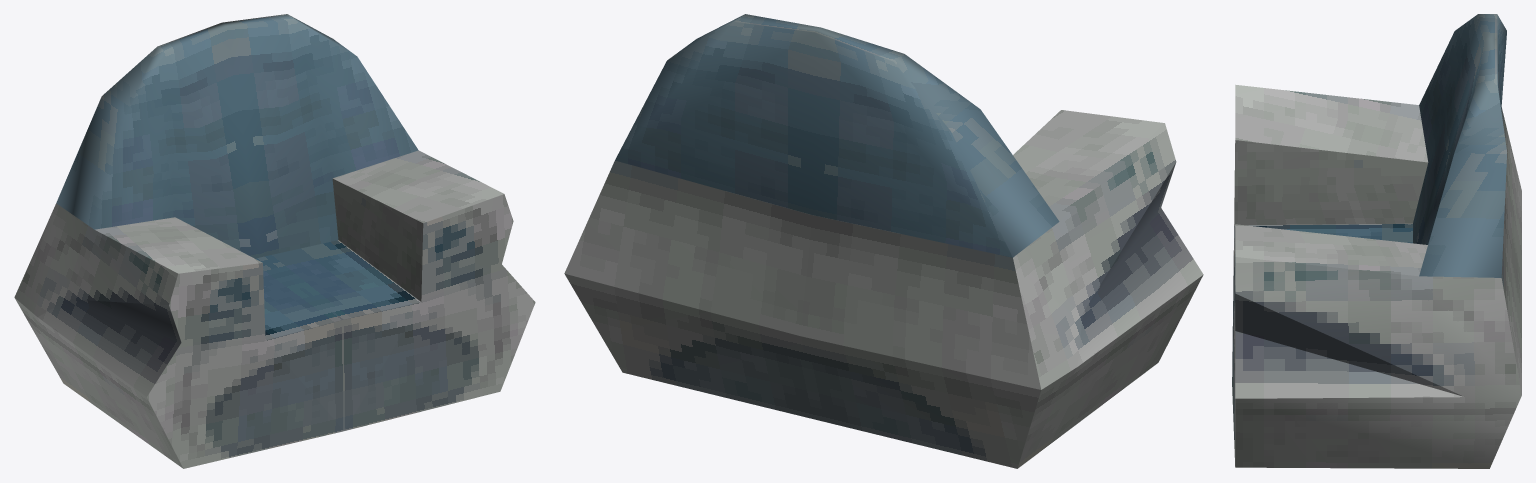
The model's file is frn_jedi_chair_light_s1_l2.fbx.
3 views of the same model, side by side, from view 1: azimuth 30°, elevation 25°; view 2: azimuth 150°, elevation 25°; view 3: azimuth 270°, elevation 25° (orthographic). The views are drawn at different scales.
Parts seen in each view (by area): view 1: mesh_node; view 2: mesh_node; view 3: mesh_node.
Part boxes in pixels (x1,y1,x2,y2): mesh_node: [14, 14, 535, 468]; mesh_node: [564, 14, 1203, 468]; mesh_node: [1232, 14, 1521, 468].
Size of the model in its own units: 1.57 by 1.21 by 0.924.
